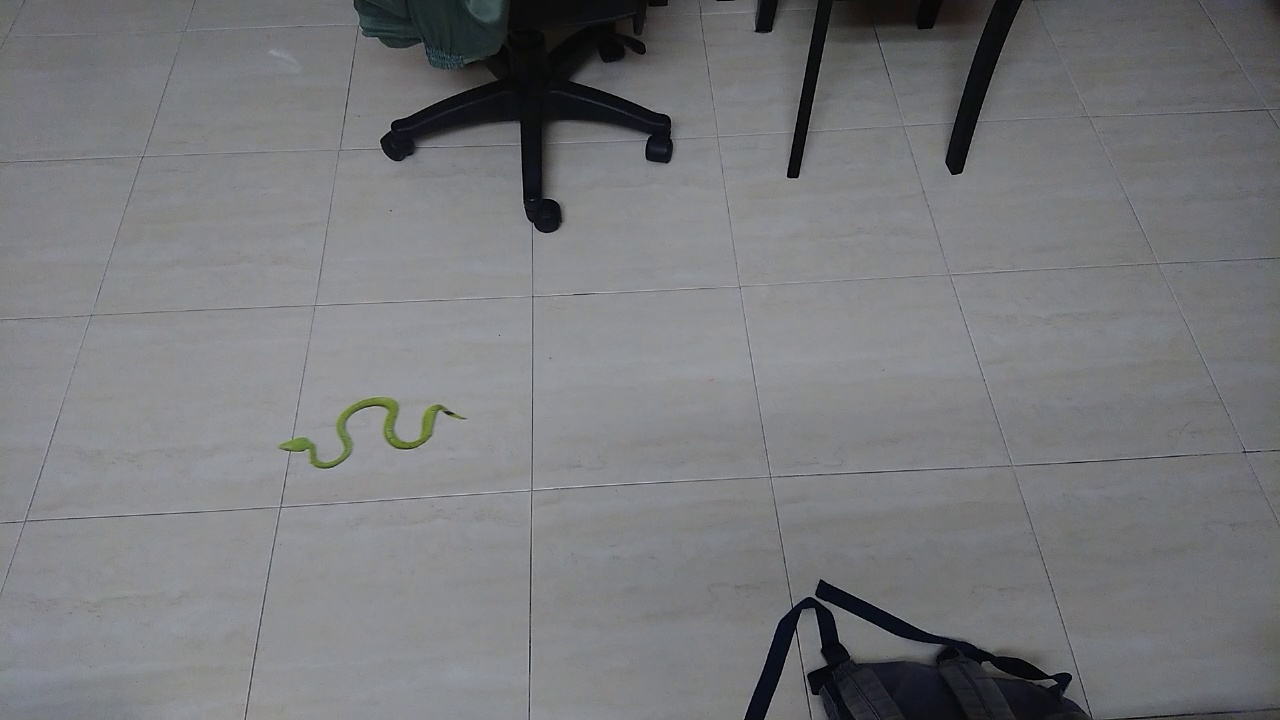snake: (256, 379, 491, 483)
